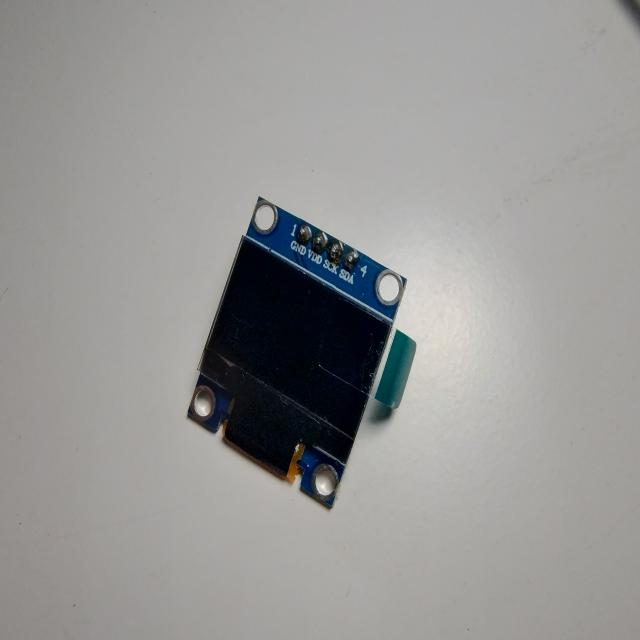oled: (177, 186, 426, 527)
